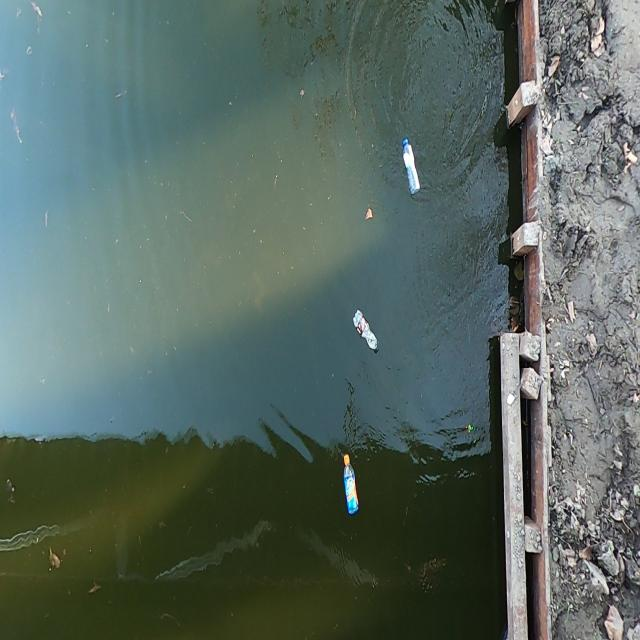Bouteille plastique: (353, 308, 379, 354), (402, 137, 421, 196), (343, 455, 359, 513)
